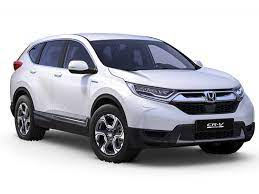Honda: (9, 32, 257, 162)
